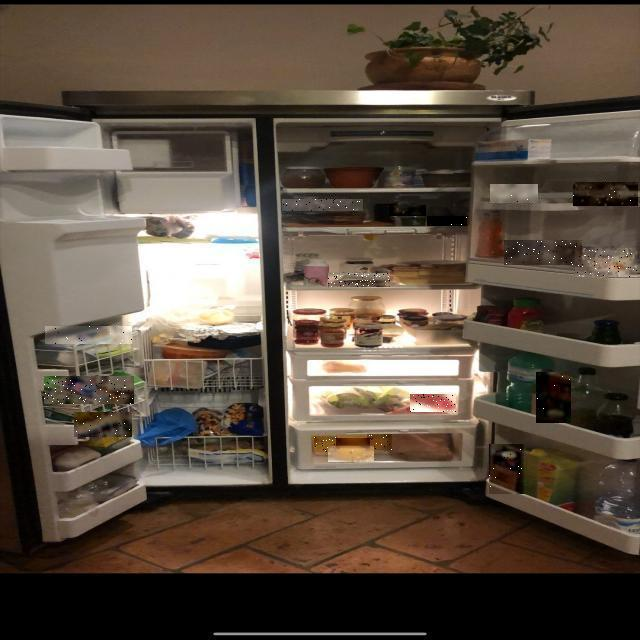Cheese: (45, 377, 135, 405), (45, 326, 132, 344), (75, 412, 133, 437)
Eggs: (573, 182, 638, 206), (490, 184, 538, 203)
Ham: (282, 199, 363, 211)
Lemon: (328, 446, 374, 462), (367, 434, 392, 451), (314, 436, 337, 452), (336, 438, 370, 448)
Meat: (328, 273, 390, 287)
Milk: (490, 444, 526, 494), (536, 372, 571, 423)
Onion: (410, 394, 456, 412)
Yoghurt: (505, 240, 583, 265), (575, 248, 637, 277), (389, 205, 426, 216), (427, 216, 467, 226)
